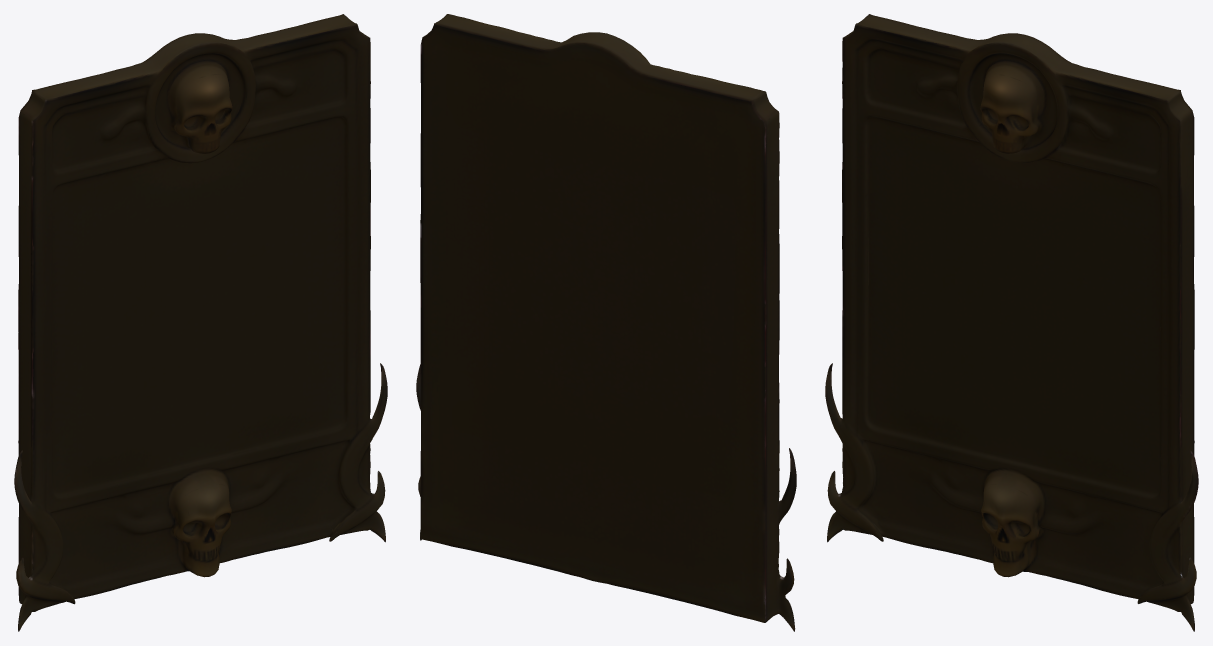
File: base_basic_shaded.fbx
3 views of the same model, side by side, from view 1: azimuth 30°, elevation 25°; view 2: azimuth 150°, elevation 25°; view 3: azimuth 330°, elevation 25° (orthographic).
Parts seen in each view (by area): view 1: model; view 2: model; view 3: model.
Boxes of the visible parts, box(x1,y1,x2,y2) form: model: box(14, 14, 387, 631); model: box(416, 14, 796, 631); model: box(825, 14, 1198, 631).
Size of the model in its own units: 136 by 190 by 16.47.
